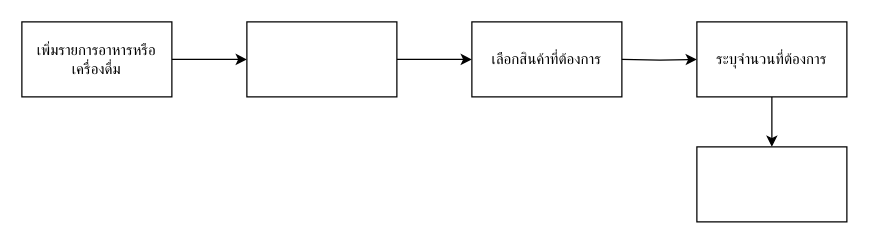
This 869x244 diagram has some shape labels left out. Here are the shapes that lost their labels. From the top down, the box of each, then its label:
(246, 21, 397, 97): เข้าไปร้านค้าที่ต้อง
(696, 146, 847, 222): เพิ่มลงตะกร้าสินค้า
